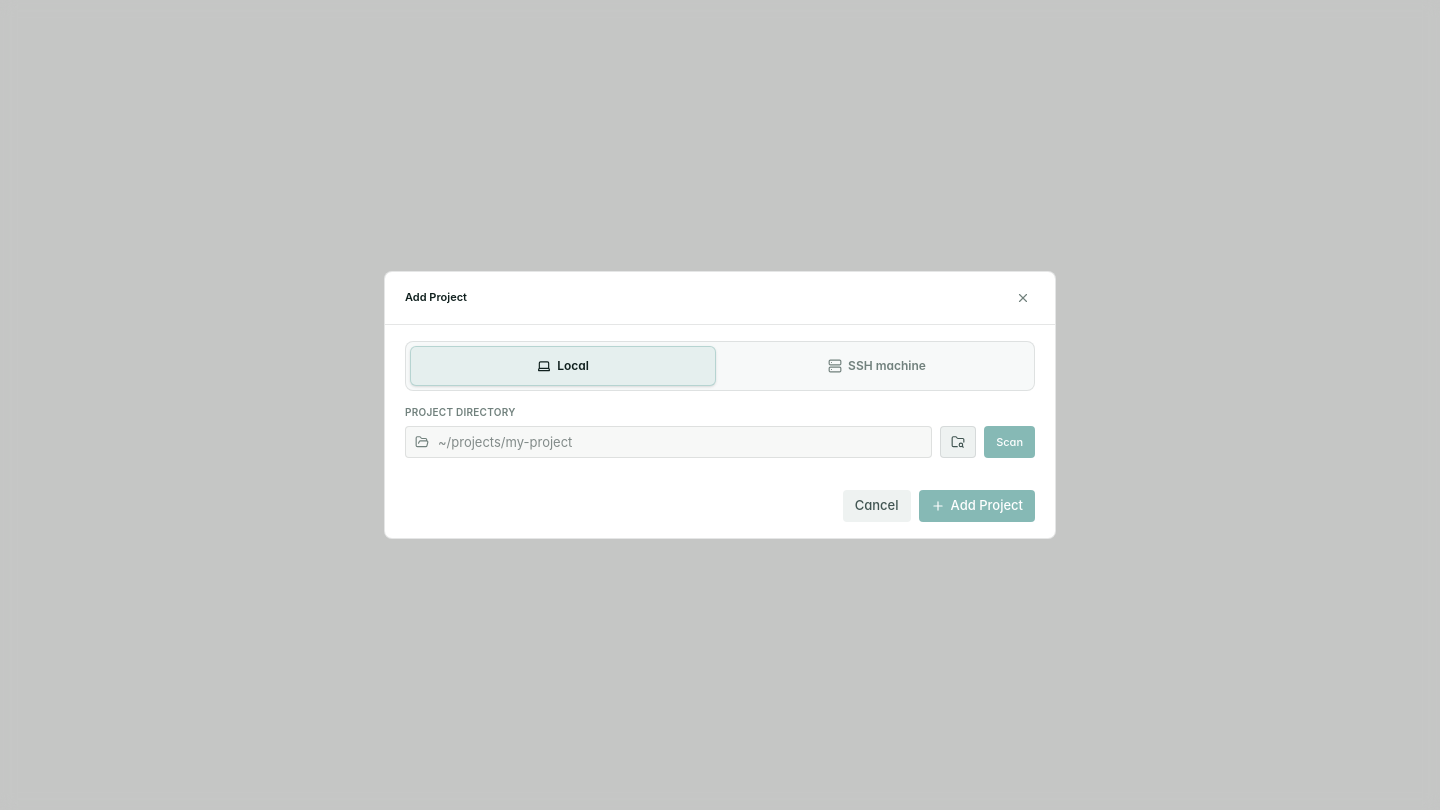
Scenario: AddProjectModal › uses a compact SSH target selector with connection details
Click the button "SSH machine". click: (877,366)
box: [724,346,1030,386]
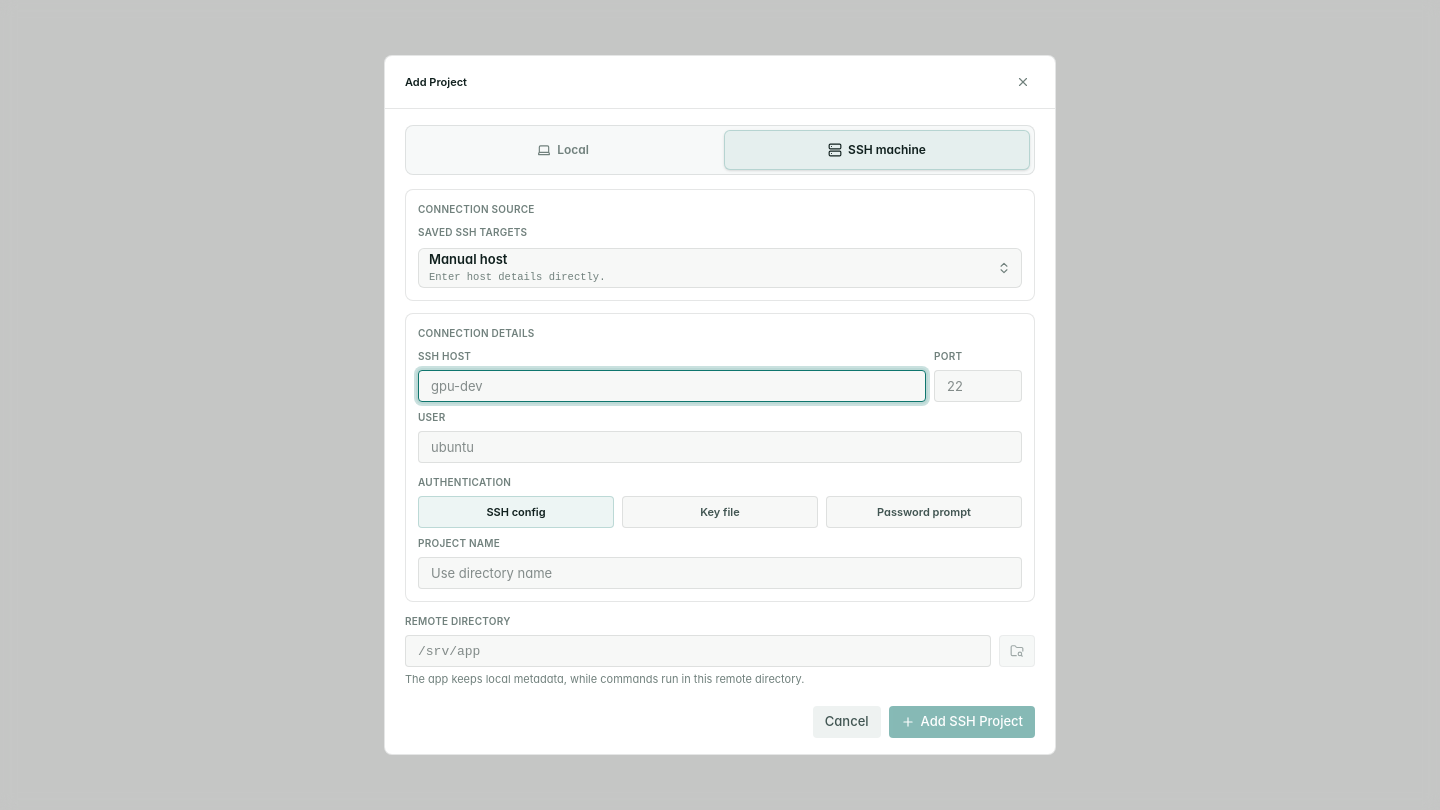
Now the button with aria-label "Saved SSH targets" is shown
Click the button with aria-label "Saved SSH targets". click: (720,268)
box: [418,248,1022,288]
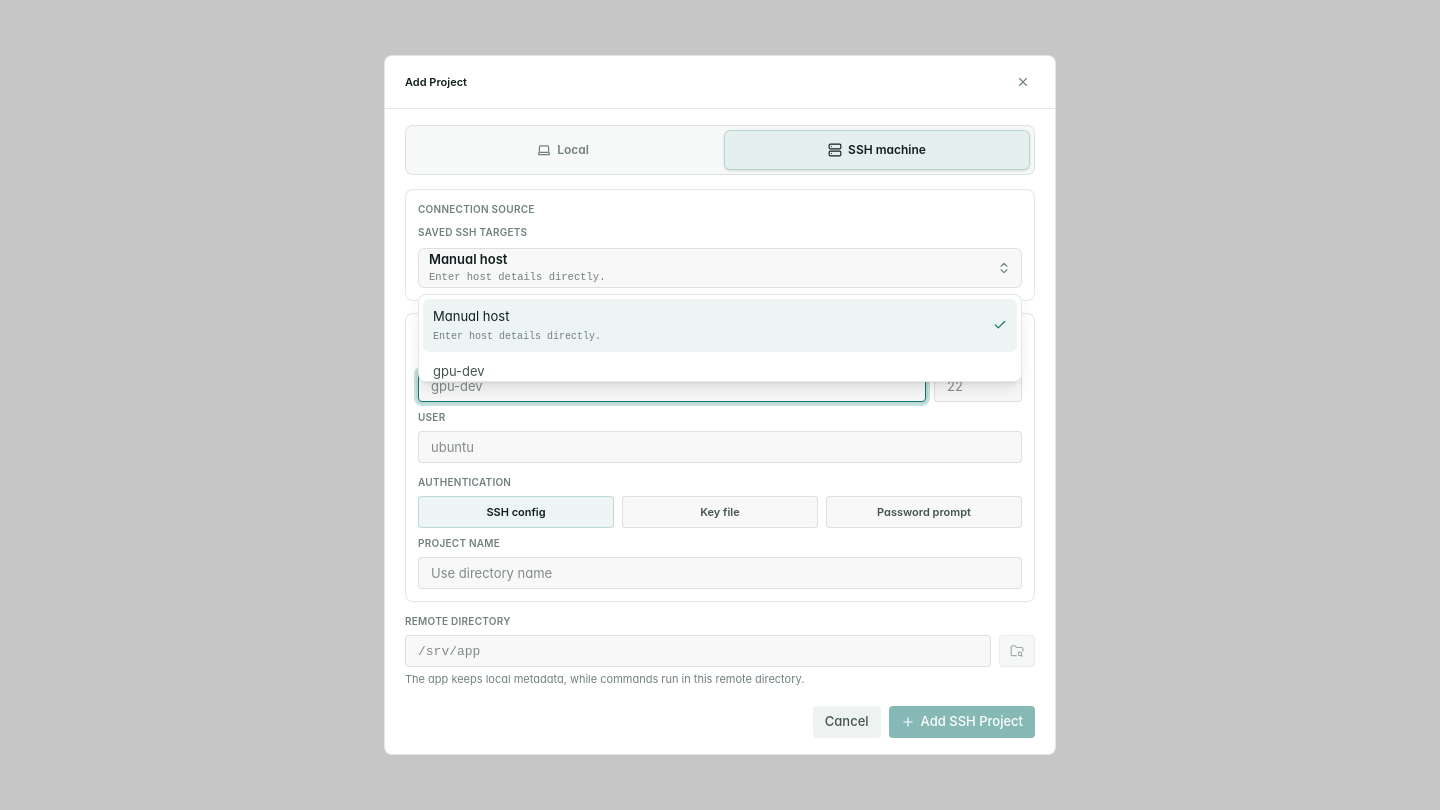
Click the option "gpu-dev ubuntu@gpu.example.com:2222". click: (459,371)
box: [423,354,1017,406]
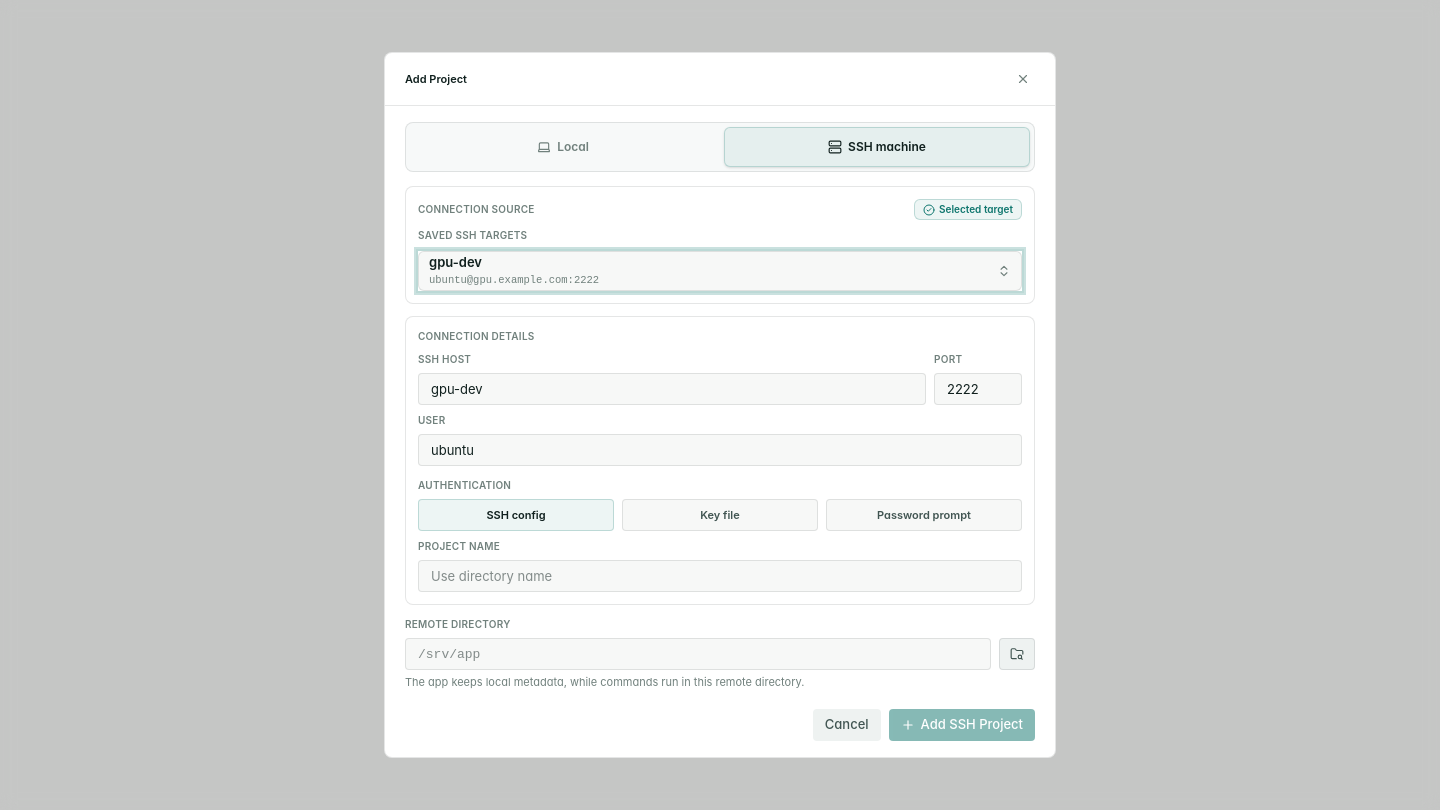
Now the field showing "gpu-dev" is shown, box [418,373,926,405]
Now the text "ubuntu@gpu.example.com:2222" is shown, box [429,273,599,289]
Now the text "Selected target" is shown, box [914,199,1022,220]
